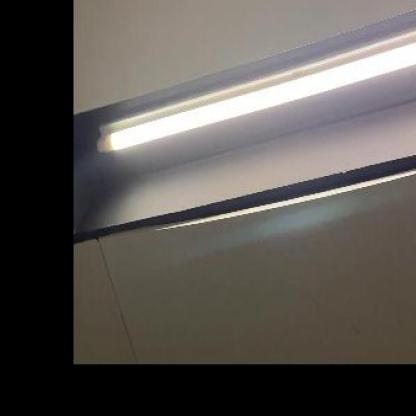light_on: (91, 0, 415, 190)
